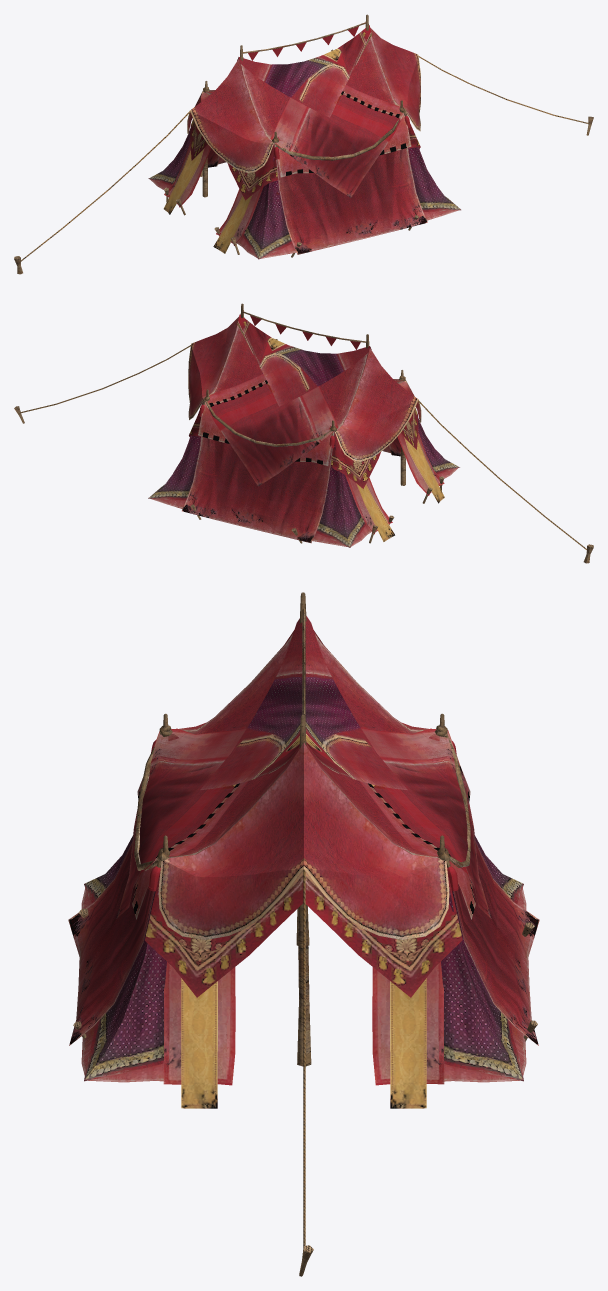
The model's file is Tent03.FBX.
3 renders of one model, top to bottom at view 1: azimuth 30°, elevation 25°; view 2: azimuth 150°, elevation 25°; view 3: azimuth 270°, elevation 25°, orthographic. The views are drawn at different scales.
Visible parts, largest first — view 1: LV_Spechia_LemiForest_DaidangsTent_SM_SVR; view 2: LV_Spechia_LemiForest_DaidangsTent_SM_SVR; view 3: LV_Spechia_LemiForest_DaidangsTent_SM_SVR.
Part boxes in pixels (x1,y1,x2,y2): LV_Spechia_LemiForest_DaidangsTent_SM_SVR: (14,14,593,274); LV_Spechia_LemiForest_DaidangsTent_SM_SVR: (14,303,593,563); LV_Spechia_LemiForest_DaidangsTent_SM_SVR: (68,592,539,1276).
Bounding box in the file's own units: 523 × 152 × 185.
